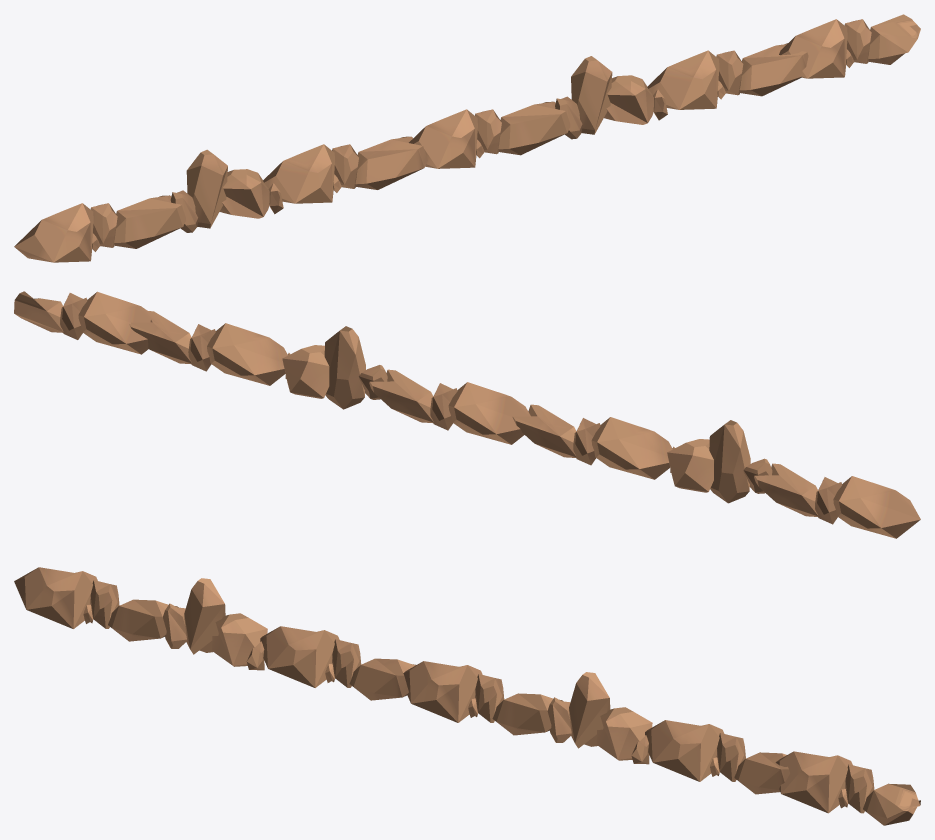
Rendered from StoneOutline1.fbx.
The picture shows the model from 3 angles, top to bottom: view 1: azimuth 30°, elevation 25°; view 2: azimuth 150°, elevation 25°; view 3: azimuth 330°, elevation 25°; orthographic projection.
Visible parts, largest first — view 1: STONEy; view 2: STONEy; view 3: STONEy.
Part boxes in pixels (left/top/right/bottom): STONEy: left=14, top=14, right=920, bottom=262; STONEy: left=14, top=291, right=920, bottom=538; STONEy: left=14, top=567, right=920, bottom=825.
Bounding box in the file's own units: 24031 × 1953 × 1361.
1 material, 1 textured.
